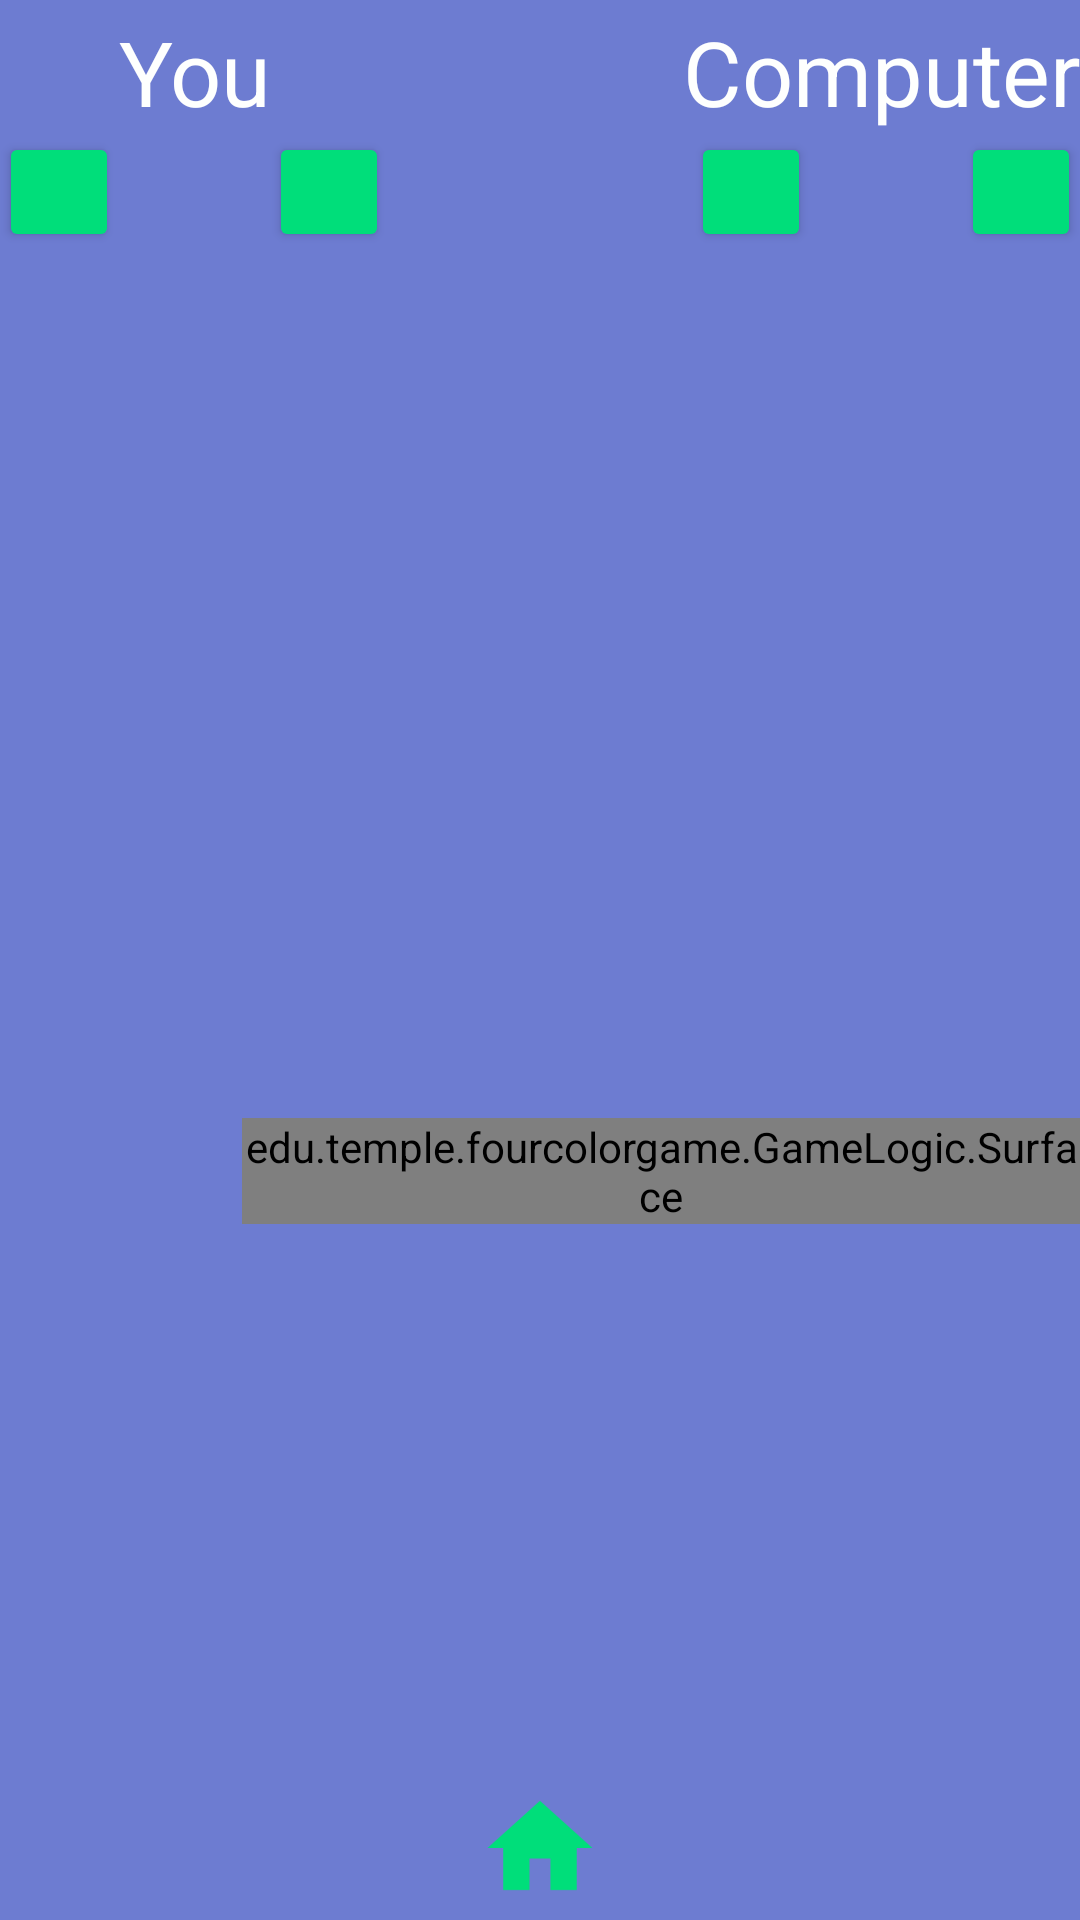

Screen size 1080*1920. Icon name, then its box in pixels as detection(x1, y1, x2, y2):
Home: detection(488, 1801, 592, 1890)
